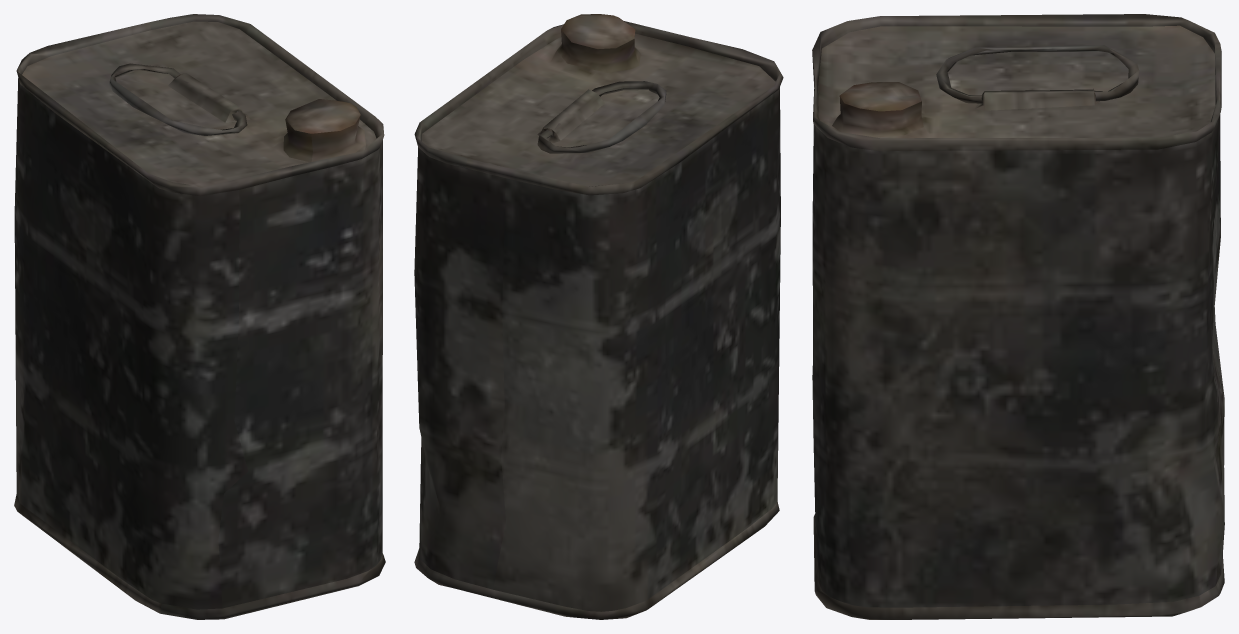
The model's file is oilCan.glb.
The picture shows the model from 3 angles, left to right: view 1: azimuth 30°, elevation 25°; view 2: azimuth 150°, elevation 25°; view 3: azimuth 270°, elevation 25°; orthographic projection. The views are drawn at different scales.
Parts seen in each view (by area): view 1: oil_tin, oil_tin_handle; view 2: oil_tin, oil_tin_handle; view 3: oil_tin, oil_tin_handle.
Boxes of the visible parts, <box> form: oil_tin: <box>14,14,385,619</box>; oil_tin_handle: <box>109,63,247,135</box>; oil_tin: <box>414,14,783,619</box>; oil_tin_handle: <box>537,81,666,153</box>; oil_tin: <box>812,14,1224,619</box>; oil_tin_handle: <box>936,45,1139,103</box>.
Bounding box in the file's own units: 0.1144 × 0.2052 × 0.1531.
Materials: 1 (1 with a texture image).
